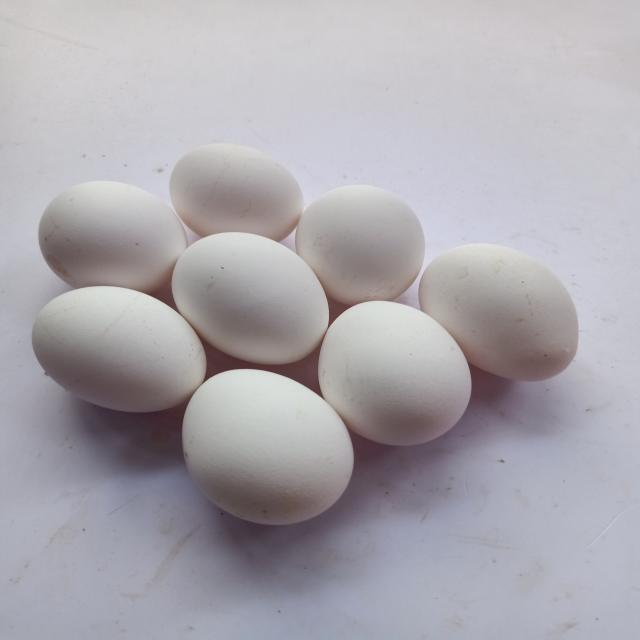Egg: (182, 369, 353, 526), (318, 301, 471, 446), (31, 286, 205, 412), (419, 244, 579, 381), (171, 232, 329, 365), (37, 181, 187, 293), (295, 184, 425, 306), (169, 143, 303, 241)
